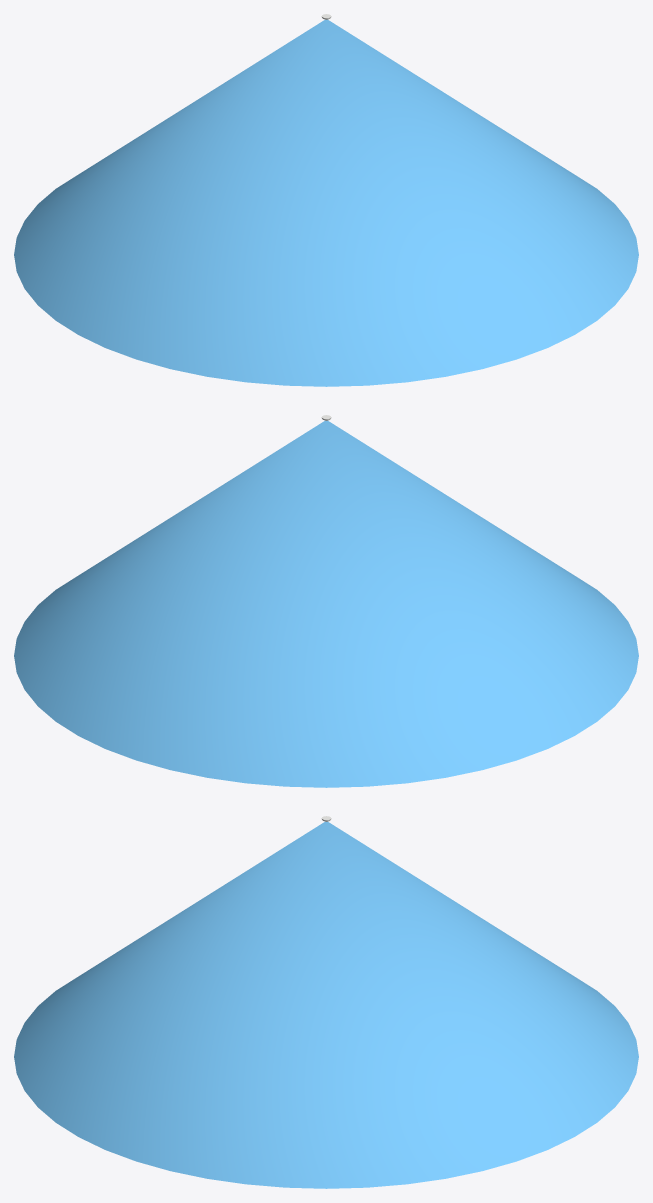
The model's file is PIR_Sensor.fbx.
3 views of the same model, one above another, from view 1: azimuth 30°, elevation 25°; view 2: azimuth 150°, elevation 25°; view 3: azimuth 270°, elevation 25° (orthographic).
Parts seen in each view (by area): view 1: Detection_Zone; view 2: Detection_Zone; view 3: Detection_Zone.
Boxes of the visible parts, x1,y1,x2,y2 form: Detection_Zone: [14, 19, 638, 386]; Detection_Zone: [14, 420, 638, 787]; Detection_Zone: [14, 821, 638, 1188].
Size of the model in its own units: 6 by 2.53 by 6.
